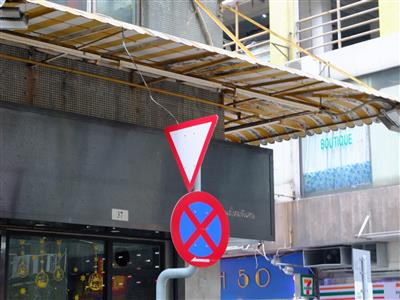noStopping: (167, 188, 231, 268)
yield: (159, 112, 222, 192)
